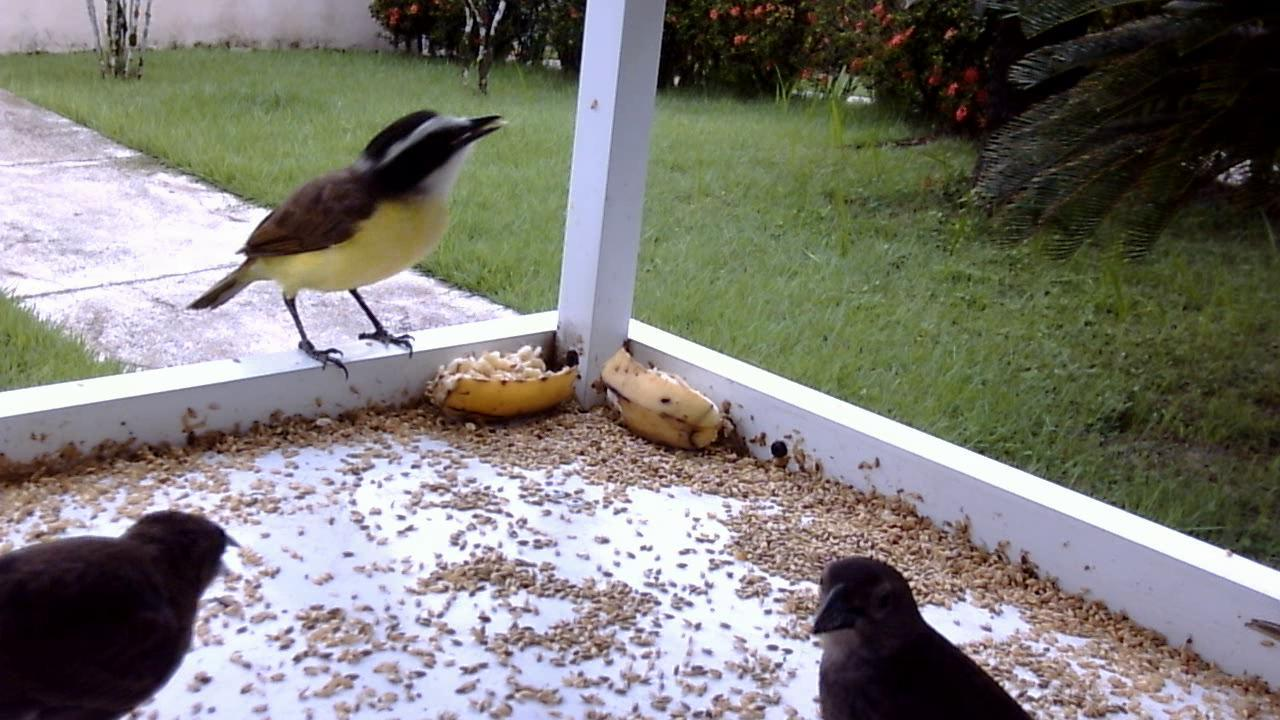bem_te_vi: (177, 98, 518, 388)
chupim: (1, 495, 247, 717), (804, 548, 1041, 720)
rolinha: (1, 497, 247, 712), (802, 550, 1040, 717)
